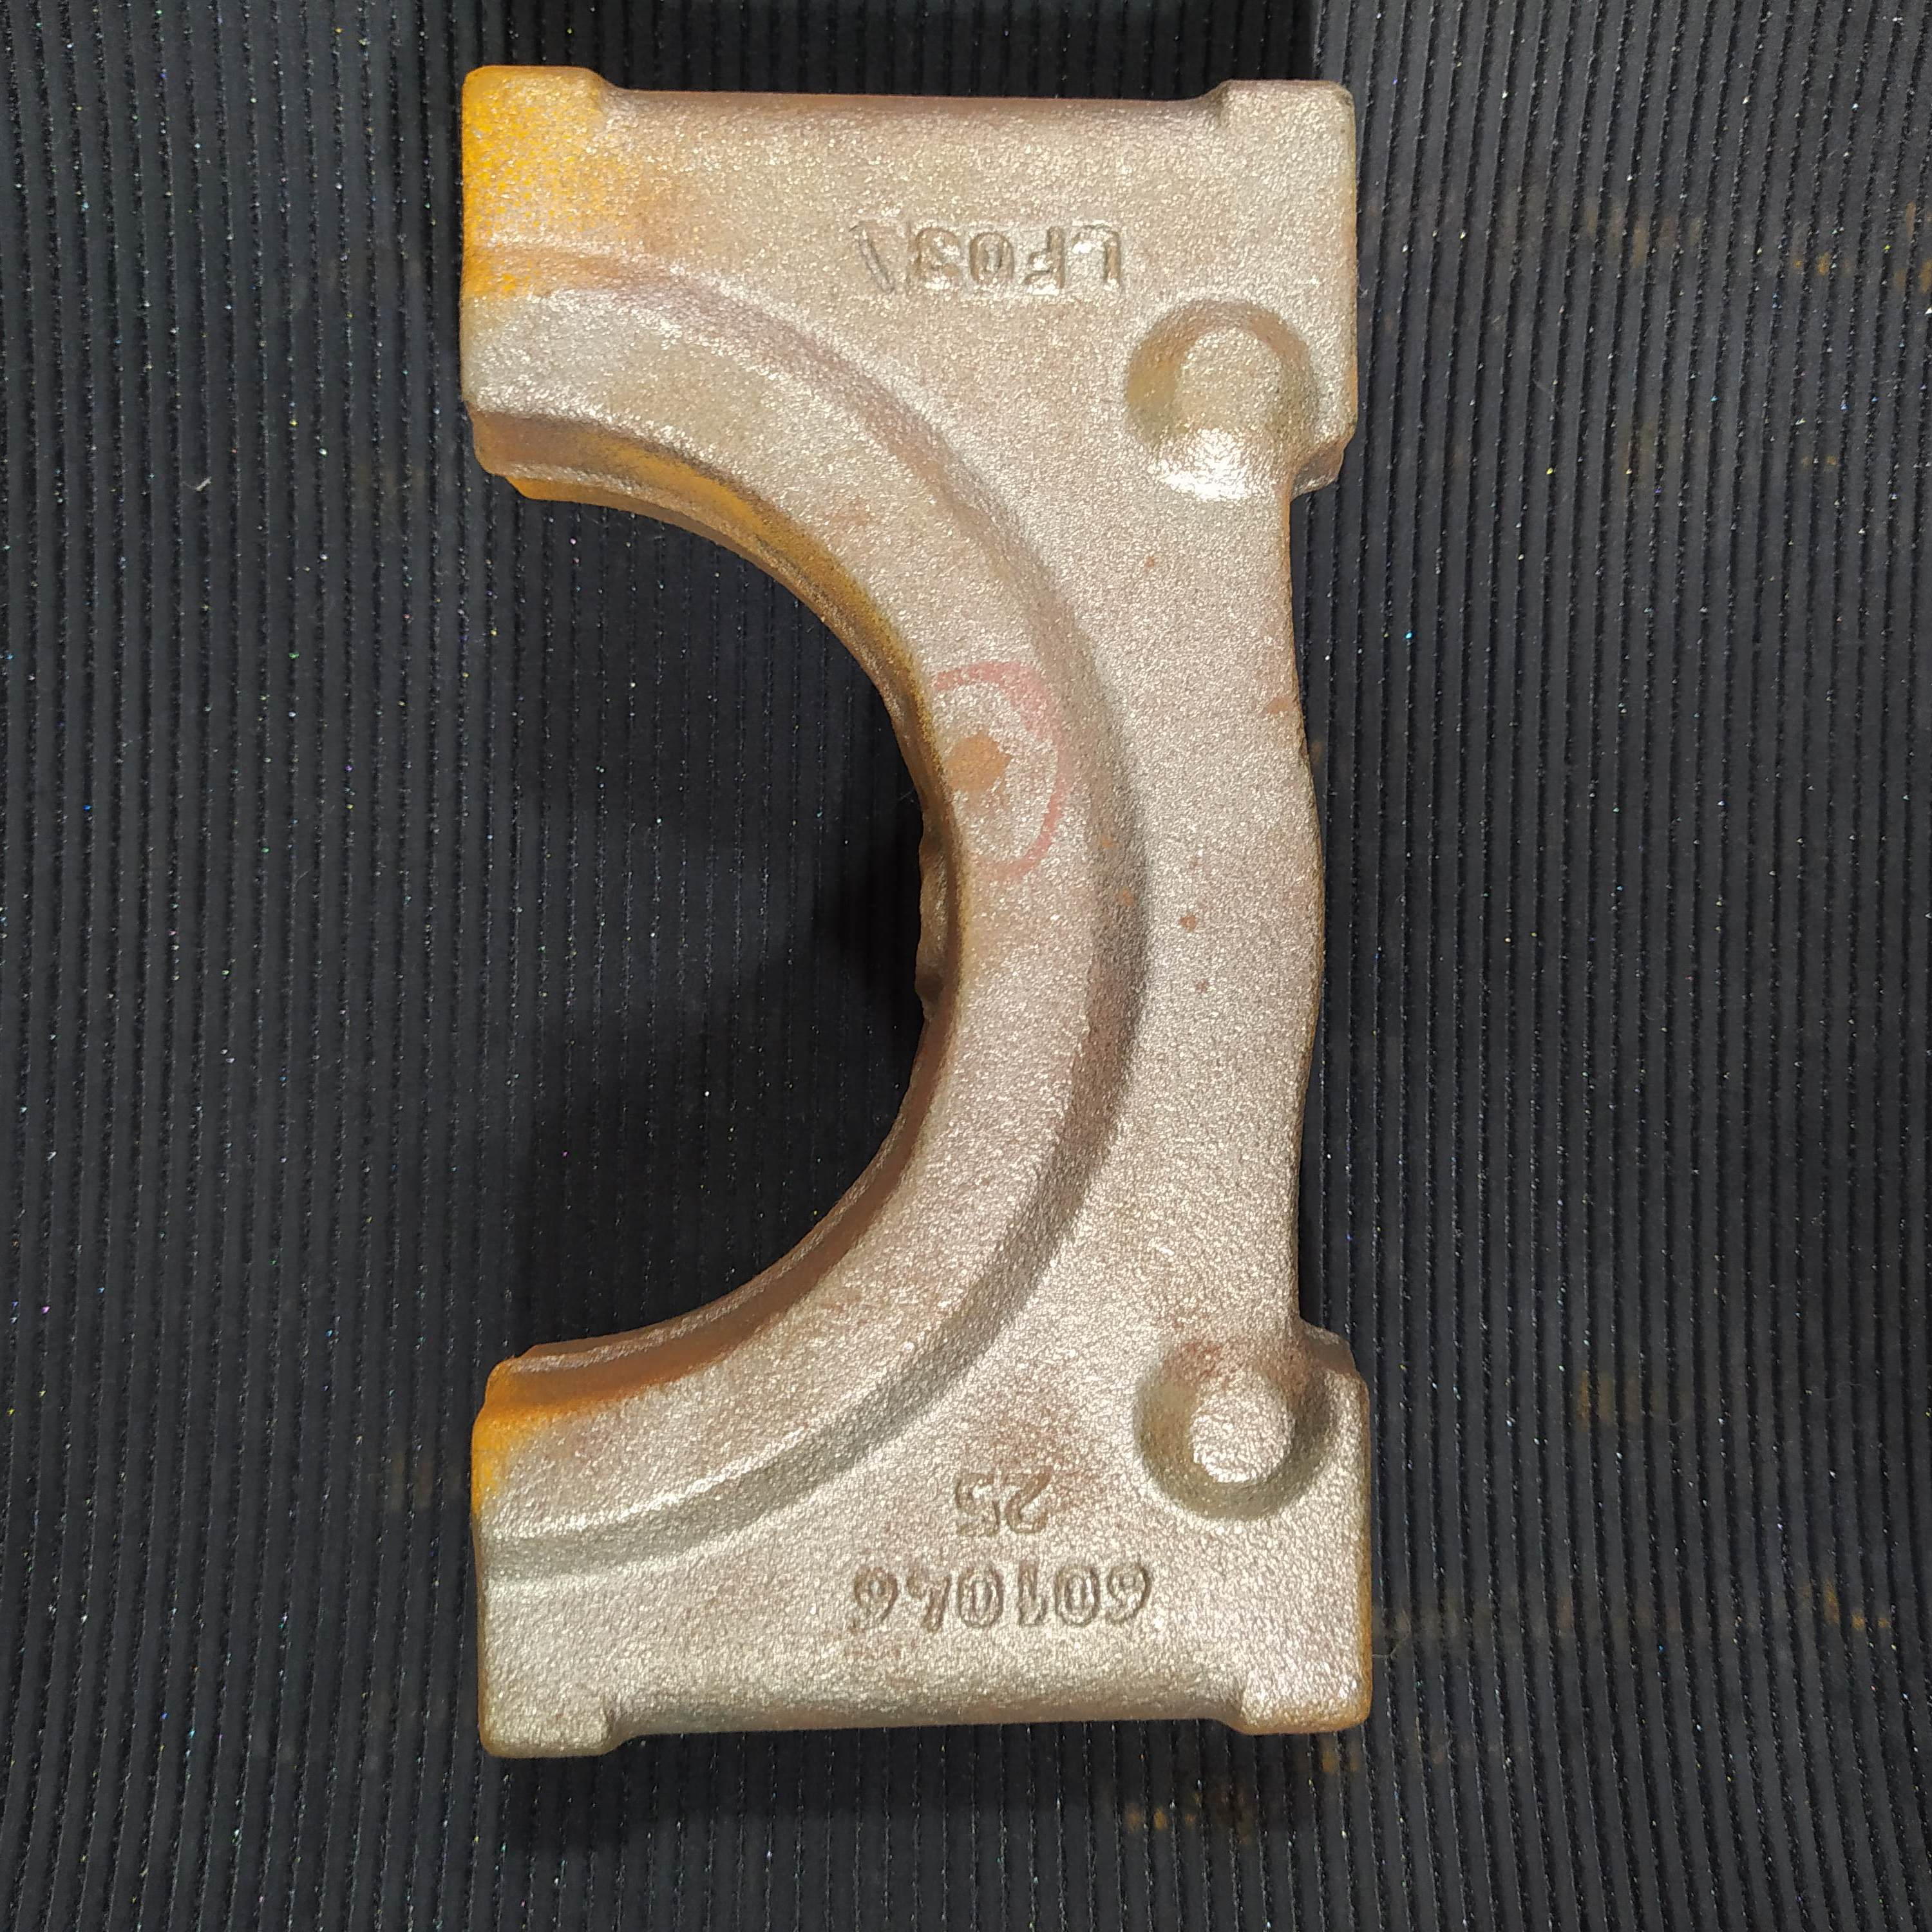mancha (ferrugem): (938, 727, 1016, 803)
